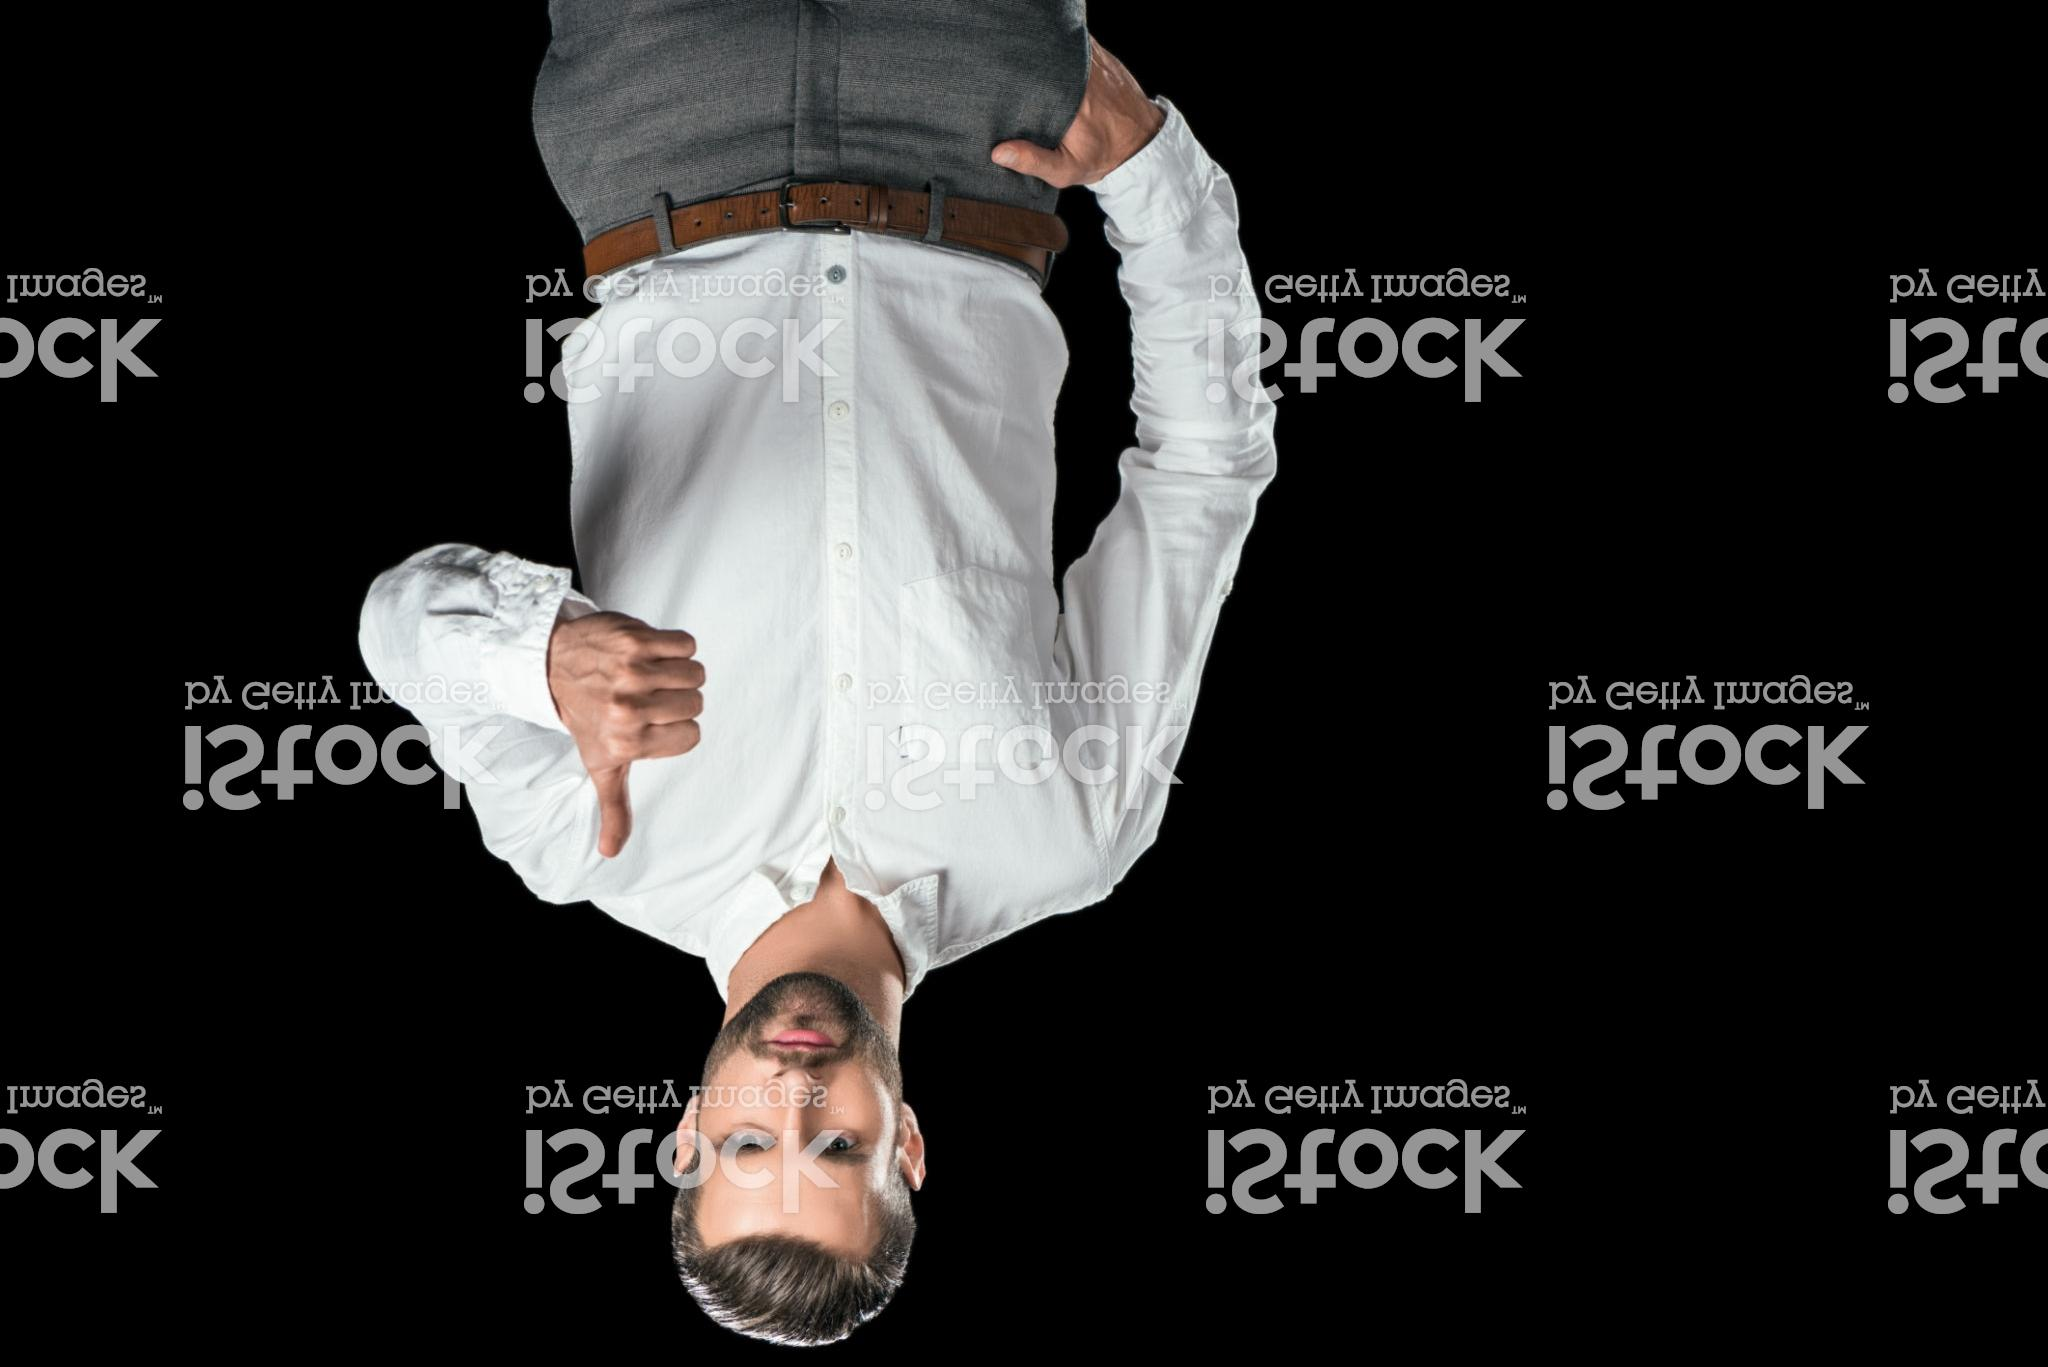thumbsdown: (567, 615, 711, 862)
